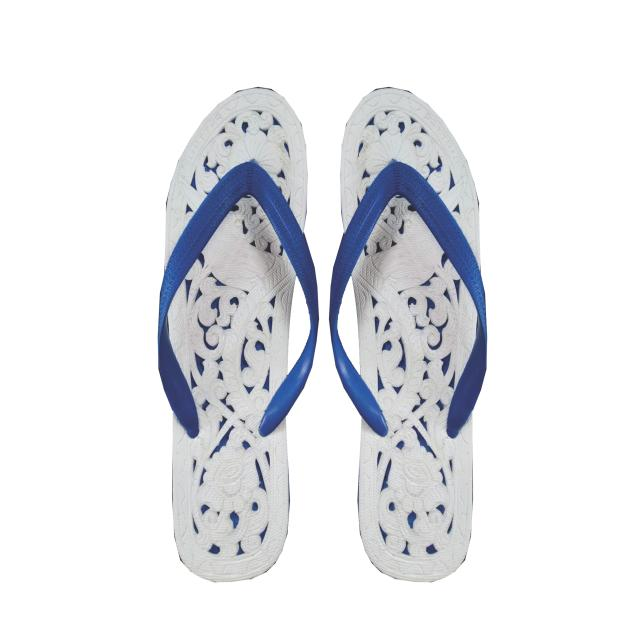Sandals: (90, 54, 538, 620)
